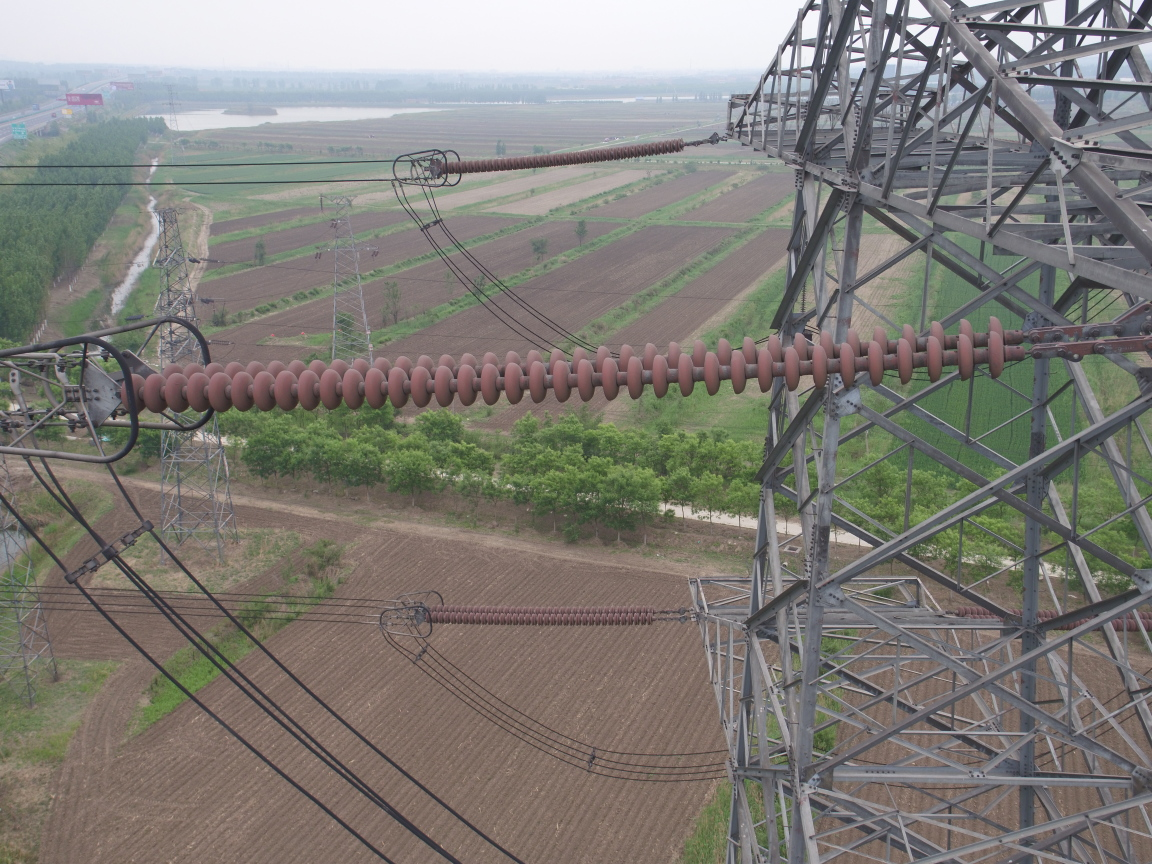insulator: (107, 312, 1074, 416), (441, 134, 698, 175), (421, 603, 657, 627)
